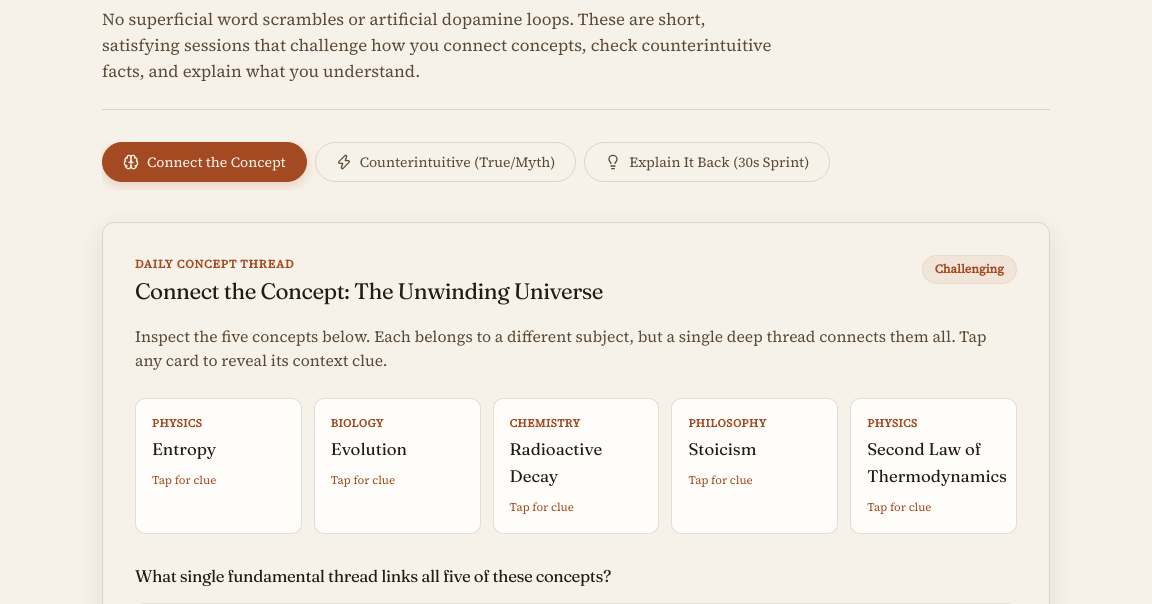
Test: Brain Games › says where the saved explanations came from
Step 1. Click the tab "Explain It Back (30s Sprint)" → (707, 162), box [584,142,830,182]
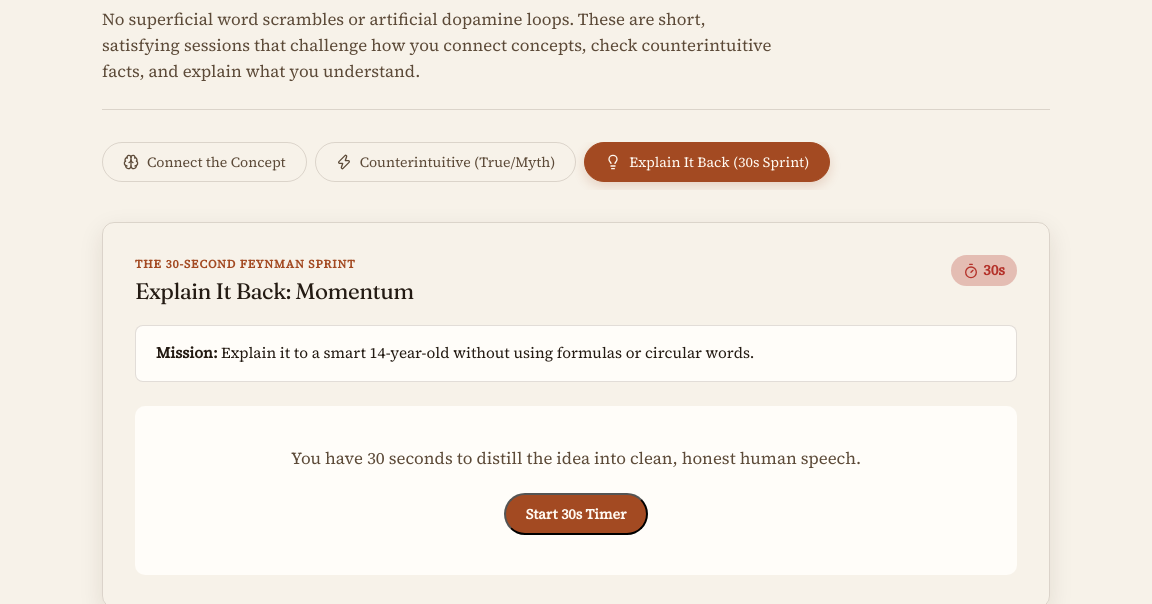
Step 2. Click the button "Start 30s Timer" → (576, 514), box [504,493,648,535]
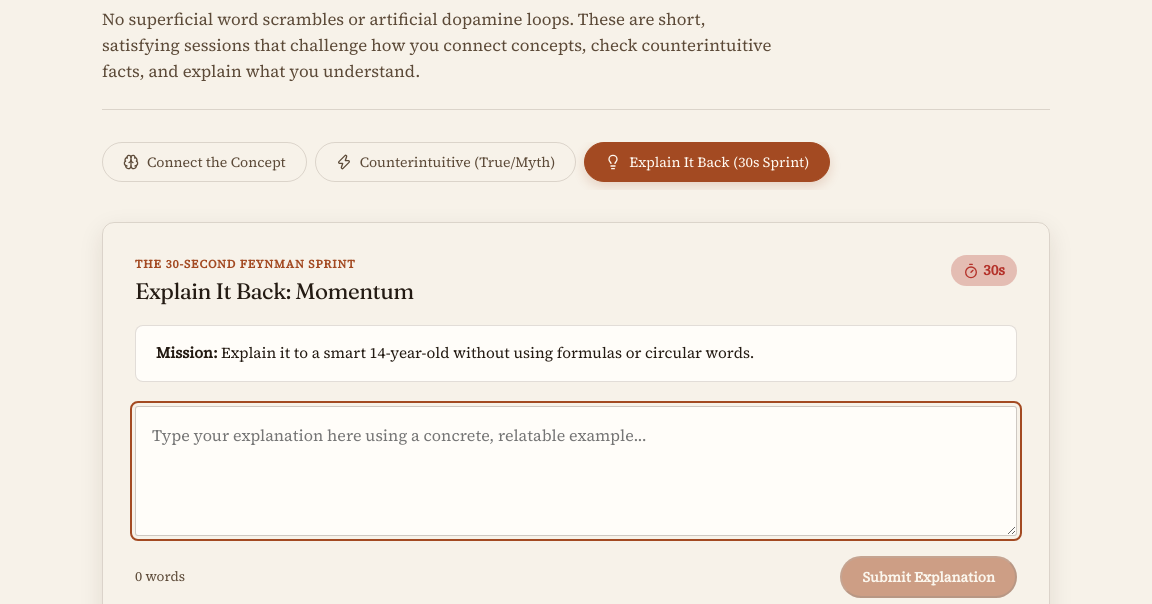
Step 3. Replace the text in the text box named "your concept explanation" with "Momentum is how hard something is to stop, and mass and speed both count." → (576, 471), box [135,406,1017,536]
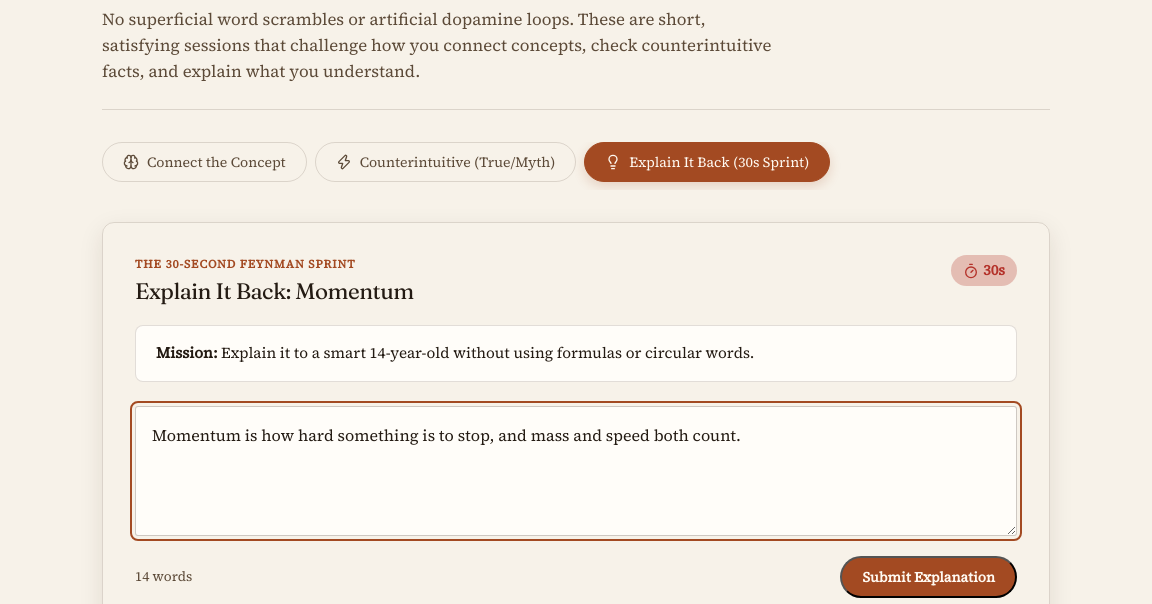
Step 4. Click the button "Submit Explanation" → (929, 577), box [840,556,1017,598]
(page scrolled)
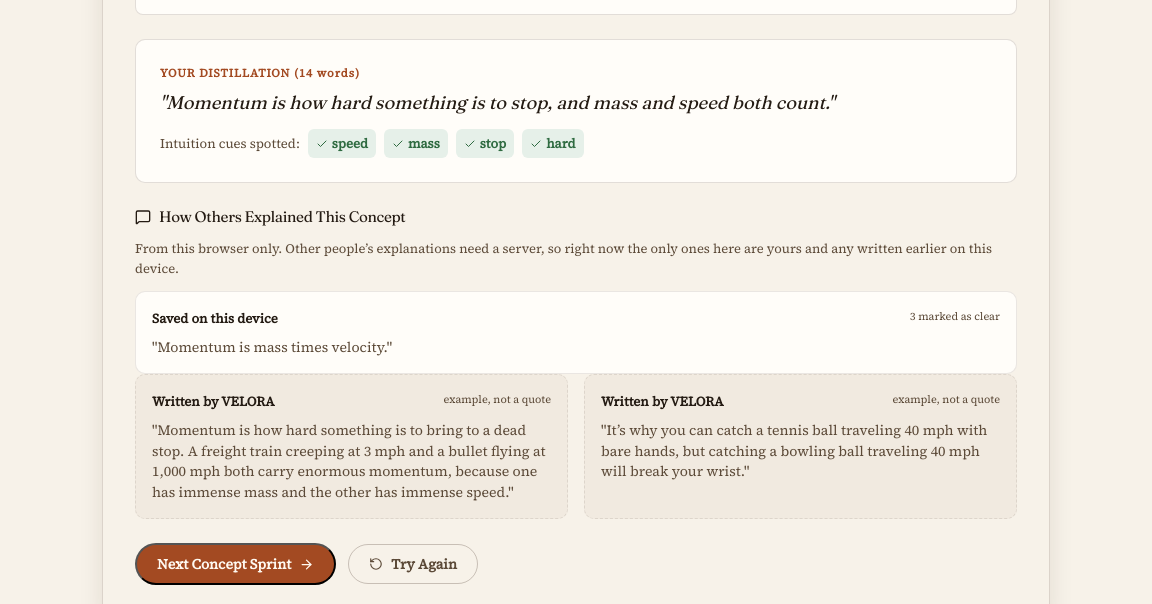
Expected: the text "\"Momentum is mass times velocity.\"" is shown, [152,337,392,357]
Expected: the text "From this browser only" is shown, [135,240,992,277]
